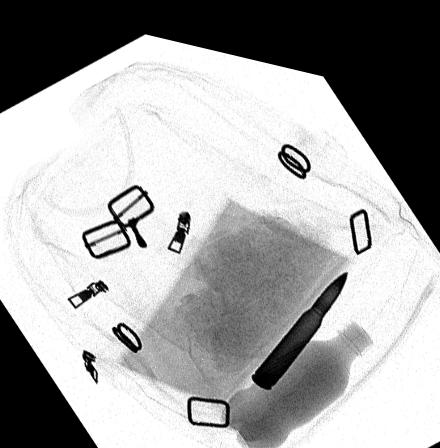Bullet: (250, 251, 349, 377)
